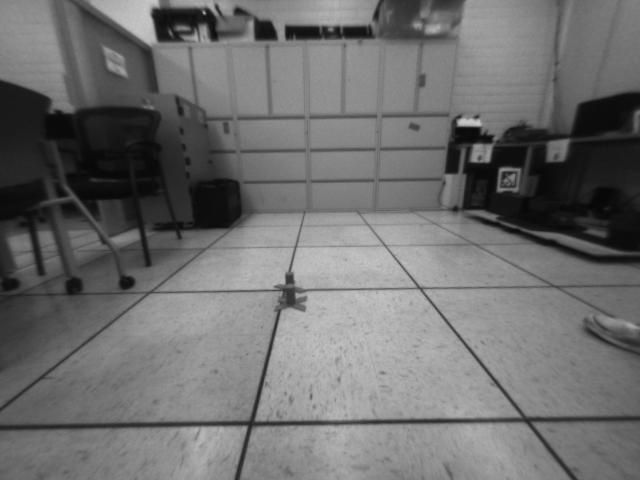X: (274, 285, 309, 313), (276, 271, 306, 297)
